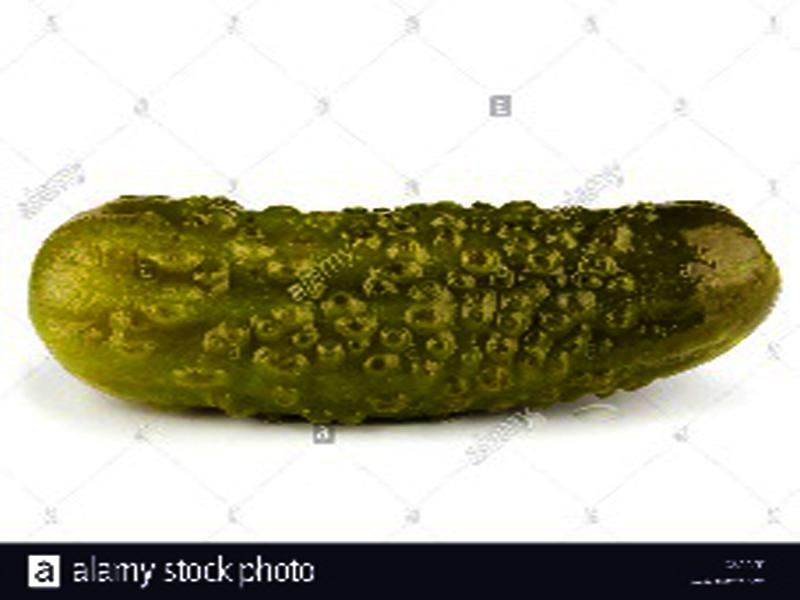Cucumber: (28, 196, 782, 423)
